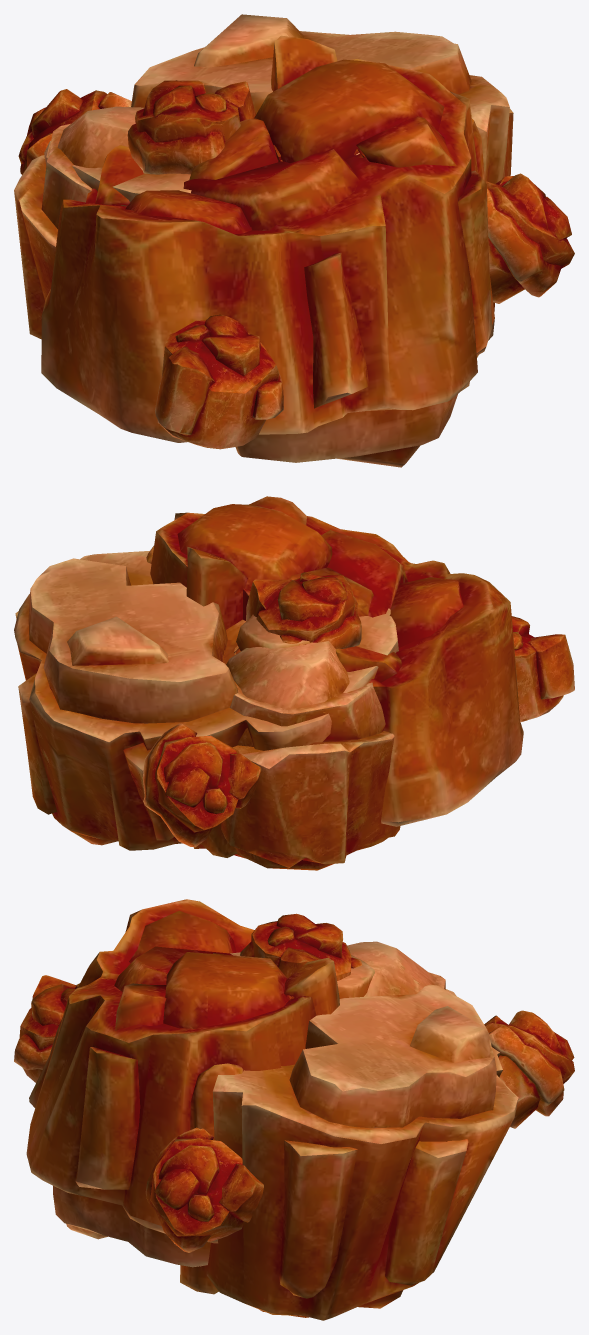
The picture shows the model from 3 angles, top to bottom: view 1: azimuth 30°, elevation 25°; view 2: azimuth 150°, elevation 25°; view 3: azimuth 270°, elevation 25°; orthographic projection. The views are drawn at different scales.
Parts seen in each view (by area): view 1: SM_Clay_Pile_LOD0; view 2: SM_Clay_Pile_LOD0; view 3: SM_Clay_Pile_LOD0.
Part boxes in pixels (box(x1,y1,x2,y2)): SM_Clay_Pile_LOD0: box(14, 14, 574, 467); SM_Clay_Pile_LOD0: box(14, 496, 574, 870); SM_Clay_Pile_LOD0: box(14, 899, 574, 1320).
Bounding box in the file's own units: 0.6509 × 0.434 × 0.7256.
3 materials, 3 textured.
